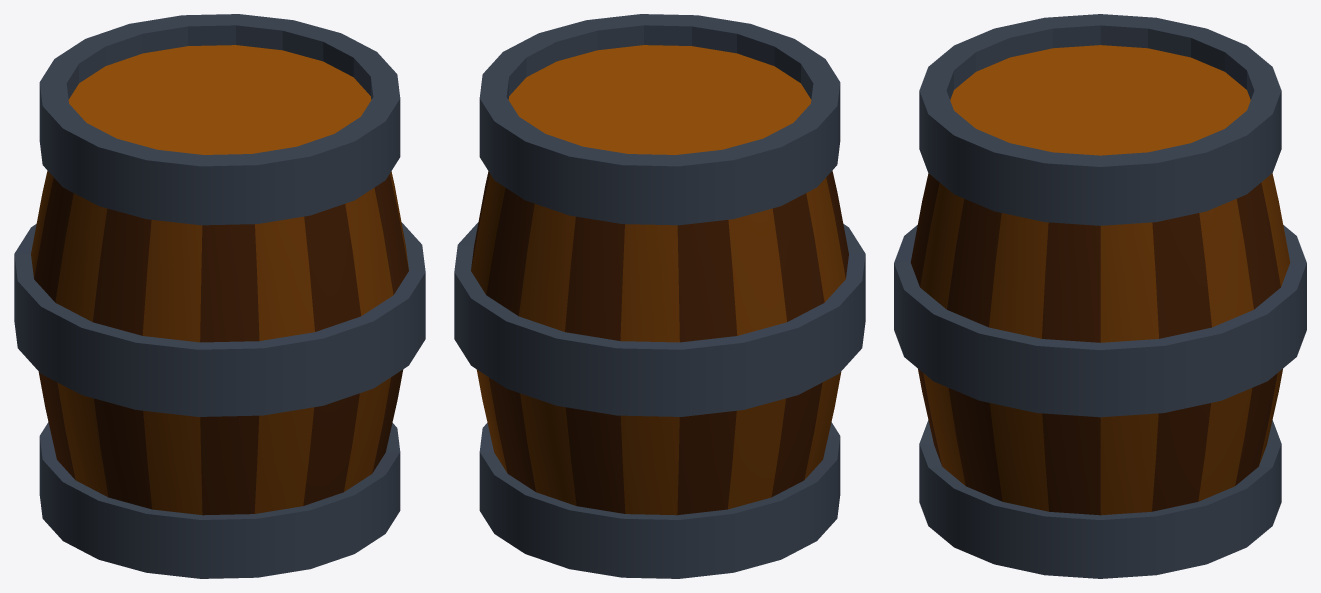
File: Prop_Barrel.fbx
3 views of the same model, side by side, from view 1: azimuth 30°, elevation 25°; view 2: azimuth 150°, elevation 25°; view 3: azimuth 270°, elevation 25° (orthographic).
Parts seen in each view (by area): view 1: Barril; view 2: Barril; view 3: Barril.
Boxes of the visible parts, x1,y1,x2,y2 form: Barril: (14, 14, 425, 578); Barril: (454, 14, 865, 578); Barril: (894, 14, 1306, 578).
Size of the model in its own units: 74.44 by 81.94 by 74.44.
